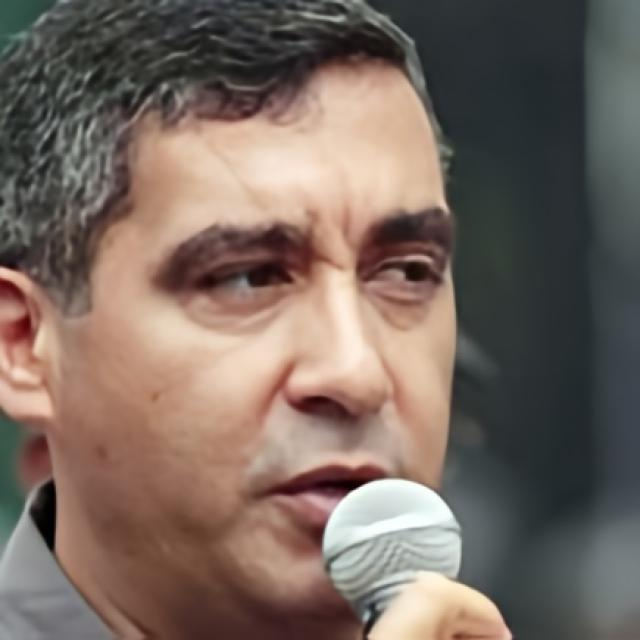anger: (66, 58, 458, 628)
